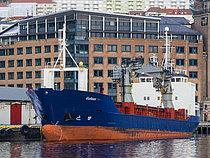Ship: (24, 59, 205, 146)
